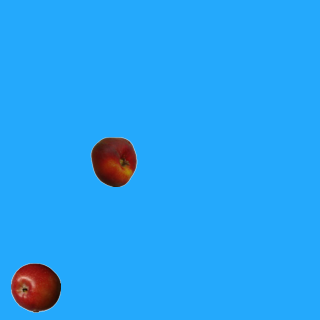Apple Braeburn: (10, 262, 60, 312)
Nectarine Flat: (88, 136, 138, 186)
